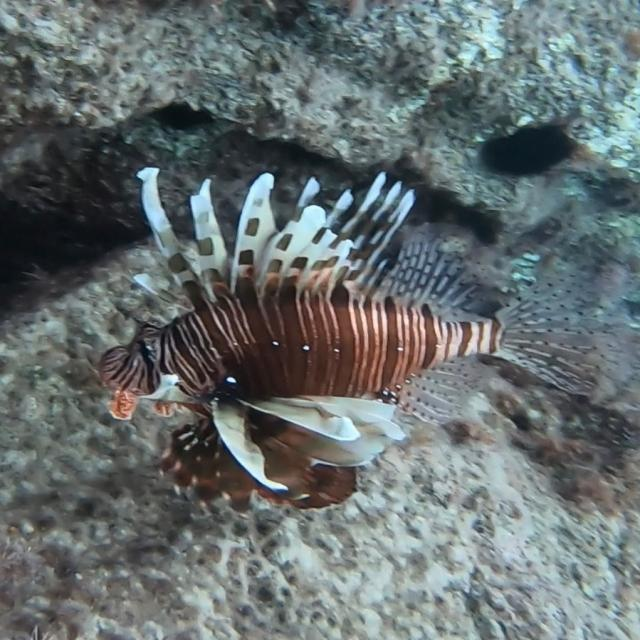Aslan Baligi: (96, 165, 622, 518)
